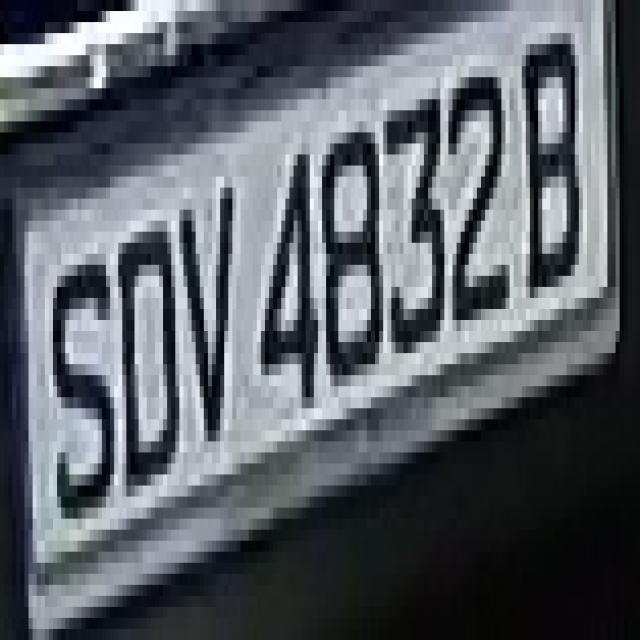2: (436, 33, 518, 364)
3: (375, 77, 453, 375)
4: (253, 110, 330, 442)
8: (310, 89, 387, 408)
B: (518, 11, 587, 320)
D: (102, 220, 179, 497)
S: (41, 220, 122, 562)
V: (167, 132, 245, 452)
